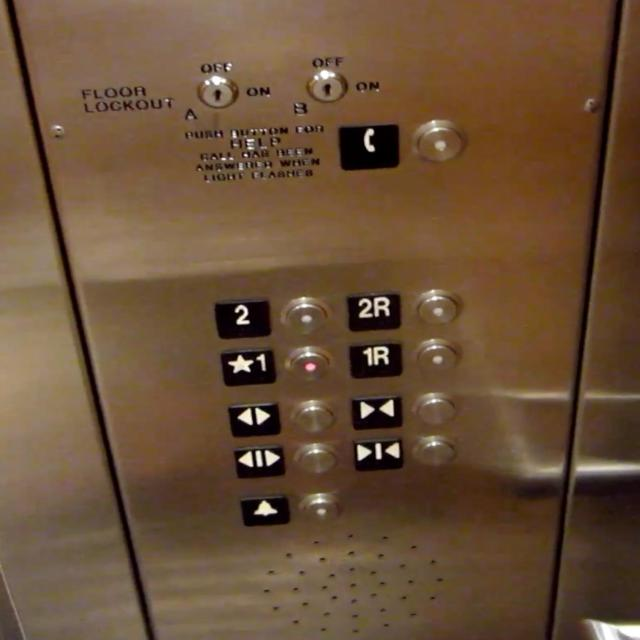1R: (346, 340, 404, 379)
2: (211, 297, 273, 341)
2R: (343, 290, 404, 332)
alarm: (236, 492, 292, 528)
call: (334, 121, 403, 173)
close: (346, 392, 405, 432), (350, 437, 408, 473)
empty: (408, 116, 469, 166), (294, 488, 349, 530), (282, 344, 338, 385), (286, 440, 342, 481), (409, 336, 465, 377), (278, 294, 333, 335), (286, 397, 341, 438), (409, 287, 464, 328), (408, 389, 463, 430), (407, 431, 462, 472)
keyhole: (195, 75, 241, 110), (304, 70, 350, 104)
open: (225, 399, 283, 439), (230, 444, 286, 481)
s1: (217, 346, 279, 389)
